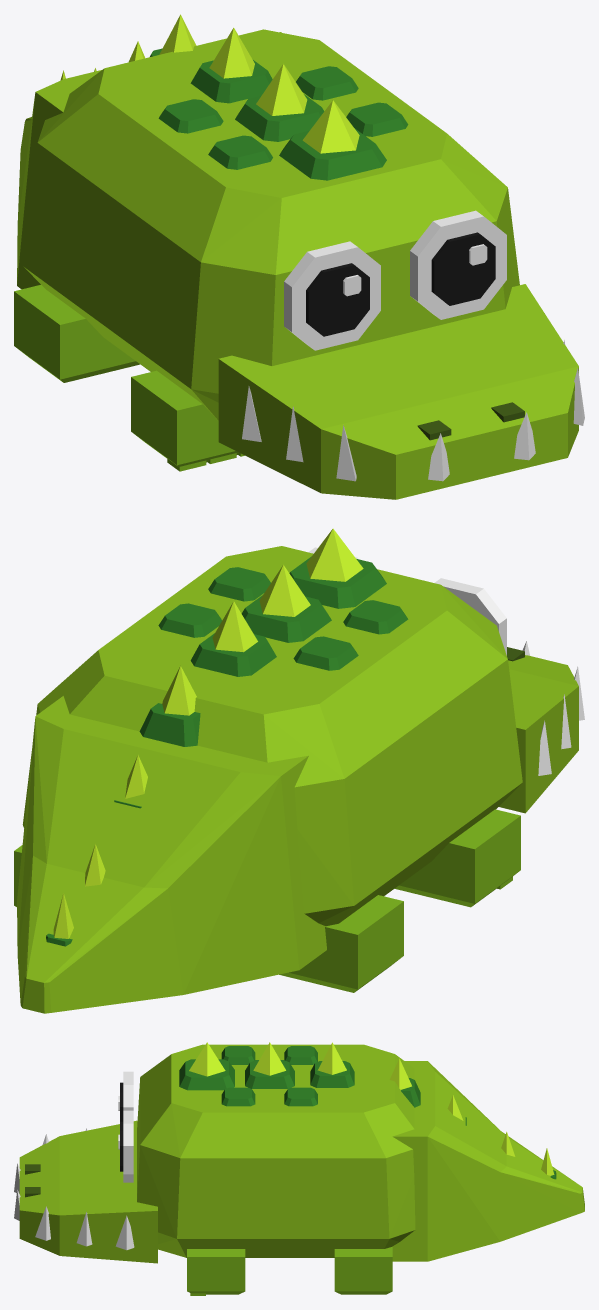
Rendered from Alligator.fbx.
3 views of the same model, one above another, from view 1: azimuth 30°, elevation 25°; view 2: azimuth 150°, elevation 25°; view 3: azimuth 270°, elevation 25° (orthographic). The views are drawn at different scales.
Visible parts, largest first — view 1: Alligator, Alligator_Snout, Alligator_Ridges, Alligator_Feet, Alligator_Eyes, Alligator_Pupils, Alligator_Glow, Alligator_Tail, Alligator_Teeth, Alligator_Nostrils; view 2: Alligator, Alligator_Tail, Alligator_Ridges, Alligator_Feet, Alligator_Glow, Alligator_Snout, Alligator_Eyes, Alligator_Teeth; view 3: Alligator, Alligator_Tail, Alligator_Snout, Alligator_Ridges, Alligator_Feet, Alligator_Glow, Alligator_Teeth, Alligator_Eyes, Alligator_Pupils.
Boxes of the visible parts, box(x1,y1,x2,y2) form: Alligator: box(22, 29, 519, 420); Alligator_Snout: box(218, 284, 578, 499); Alligator_Ridges: box(150, 48, 408, 180); Alligator_Feet: box(14, 285, 244, 471); Alligator_Eyes: box(284, 210, 506, 350); Alligator_Pupils: box(306, 232, 495, 336); Alligator_Glow: box(60, 14, 359, 153); Alligator_Tail: box(17, 32, 281, 289); Alligator_Teeth: box(242, 313, 584, 481); Alligator_Nostrils: box(417, 402, 524, 440); Alligator: box(22, 546, 522, 926); Alligator_Tail: box(17, 696, 326, 1013); Alligator_Ridges: box(46, 556, 408, 946); Alligator_Feet: box(14, 809, 520, 992); Alligator_Glow: box(53, 528, 363, 938); Alligator_Snout: box(499, 655, 578, 813); Alligator_Eyes: box(308, 547, 506, 655); Alligator_Teeth: box(522, 641, 584, 775); Alligator: box(137, 1044, 415, 1257); Alligator_Tail: box(392, 1061, 584, 1261); Alligator_Snout: box(19, 1120, 157, 1263); Alligator_Ridges: box(179, 1046, 556, 1179); Alligator_Feet: box(187, 1247, 392, 1295); Alligator_Glow: box(189, 1042, 554, 1175); Alligator_Teeth: box(14, 1128, 134, 1250); Alligator_Eyes: box(118, 1071, 133, 1182); Alligator_Pupils: box(120, 1082, 123, 1171).
Bounding box in the file's own units: 2.24 × 2 × 5.11.
